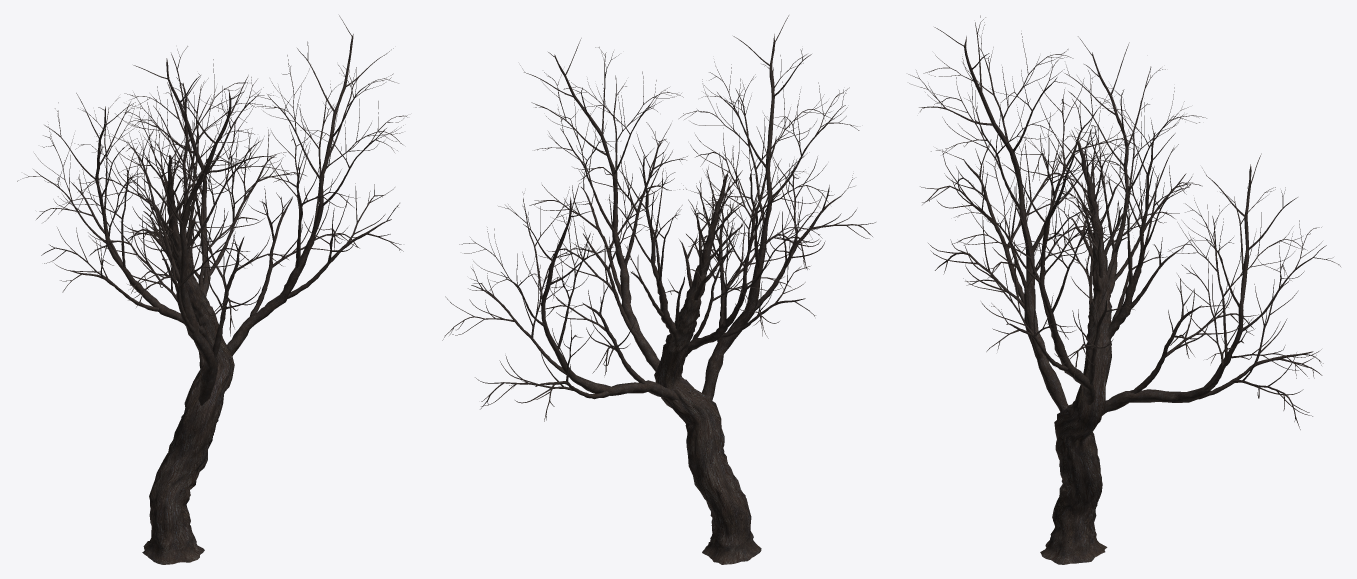
Rendered from Bark01.fbx.
3 renders of one model, left to right at view 1: azimuth 30°, elevation 25°; view 2: azimuth 150°, elevation 25°; view 3: azimuth 270°, elevation 25°, orthographic. The views are drawn at different scales.
Visible parts, largest first — view 1: Bark01; view 2: Bark01; view 3: Bark01.
Part boxes in pixels (x1,y1,x2,y2): Bark01: (17,15,407,564); Bark01: (442,15,875,564); Bark01: (908,15,1340,564).
Bounding box in the file's own units: 657 × 930 × 697.
Materials: 1 (1 with a texture image).
